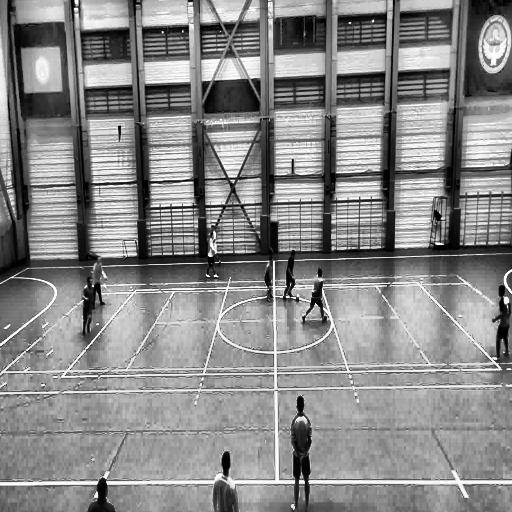ball: (296, 294, 300, 301)
player: (290, 396, 312, 512), (214, 451, 241, 512), (491, 282, 512, 360), (303, 268, 326, 324), (82, 275, 95, 336), (93, 255, 107, 307), (282, 249, 296, 300), (206, 230, 220, 278), (264, 254, 274, 300)
